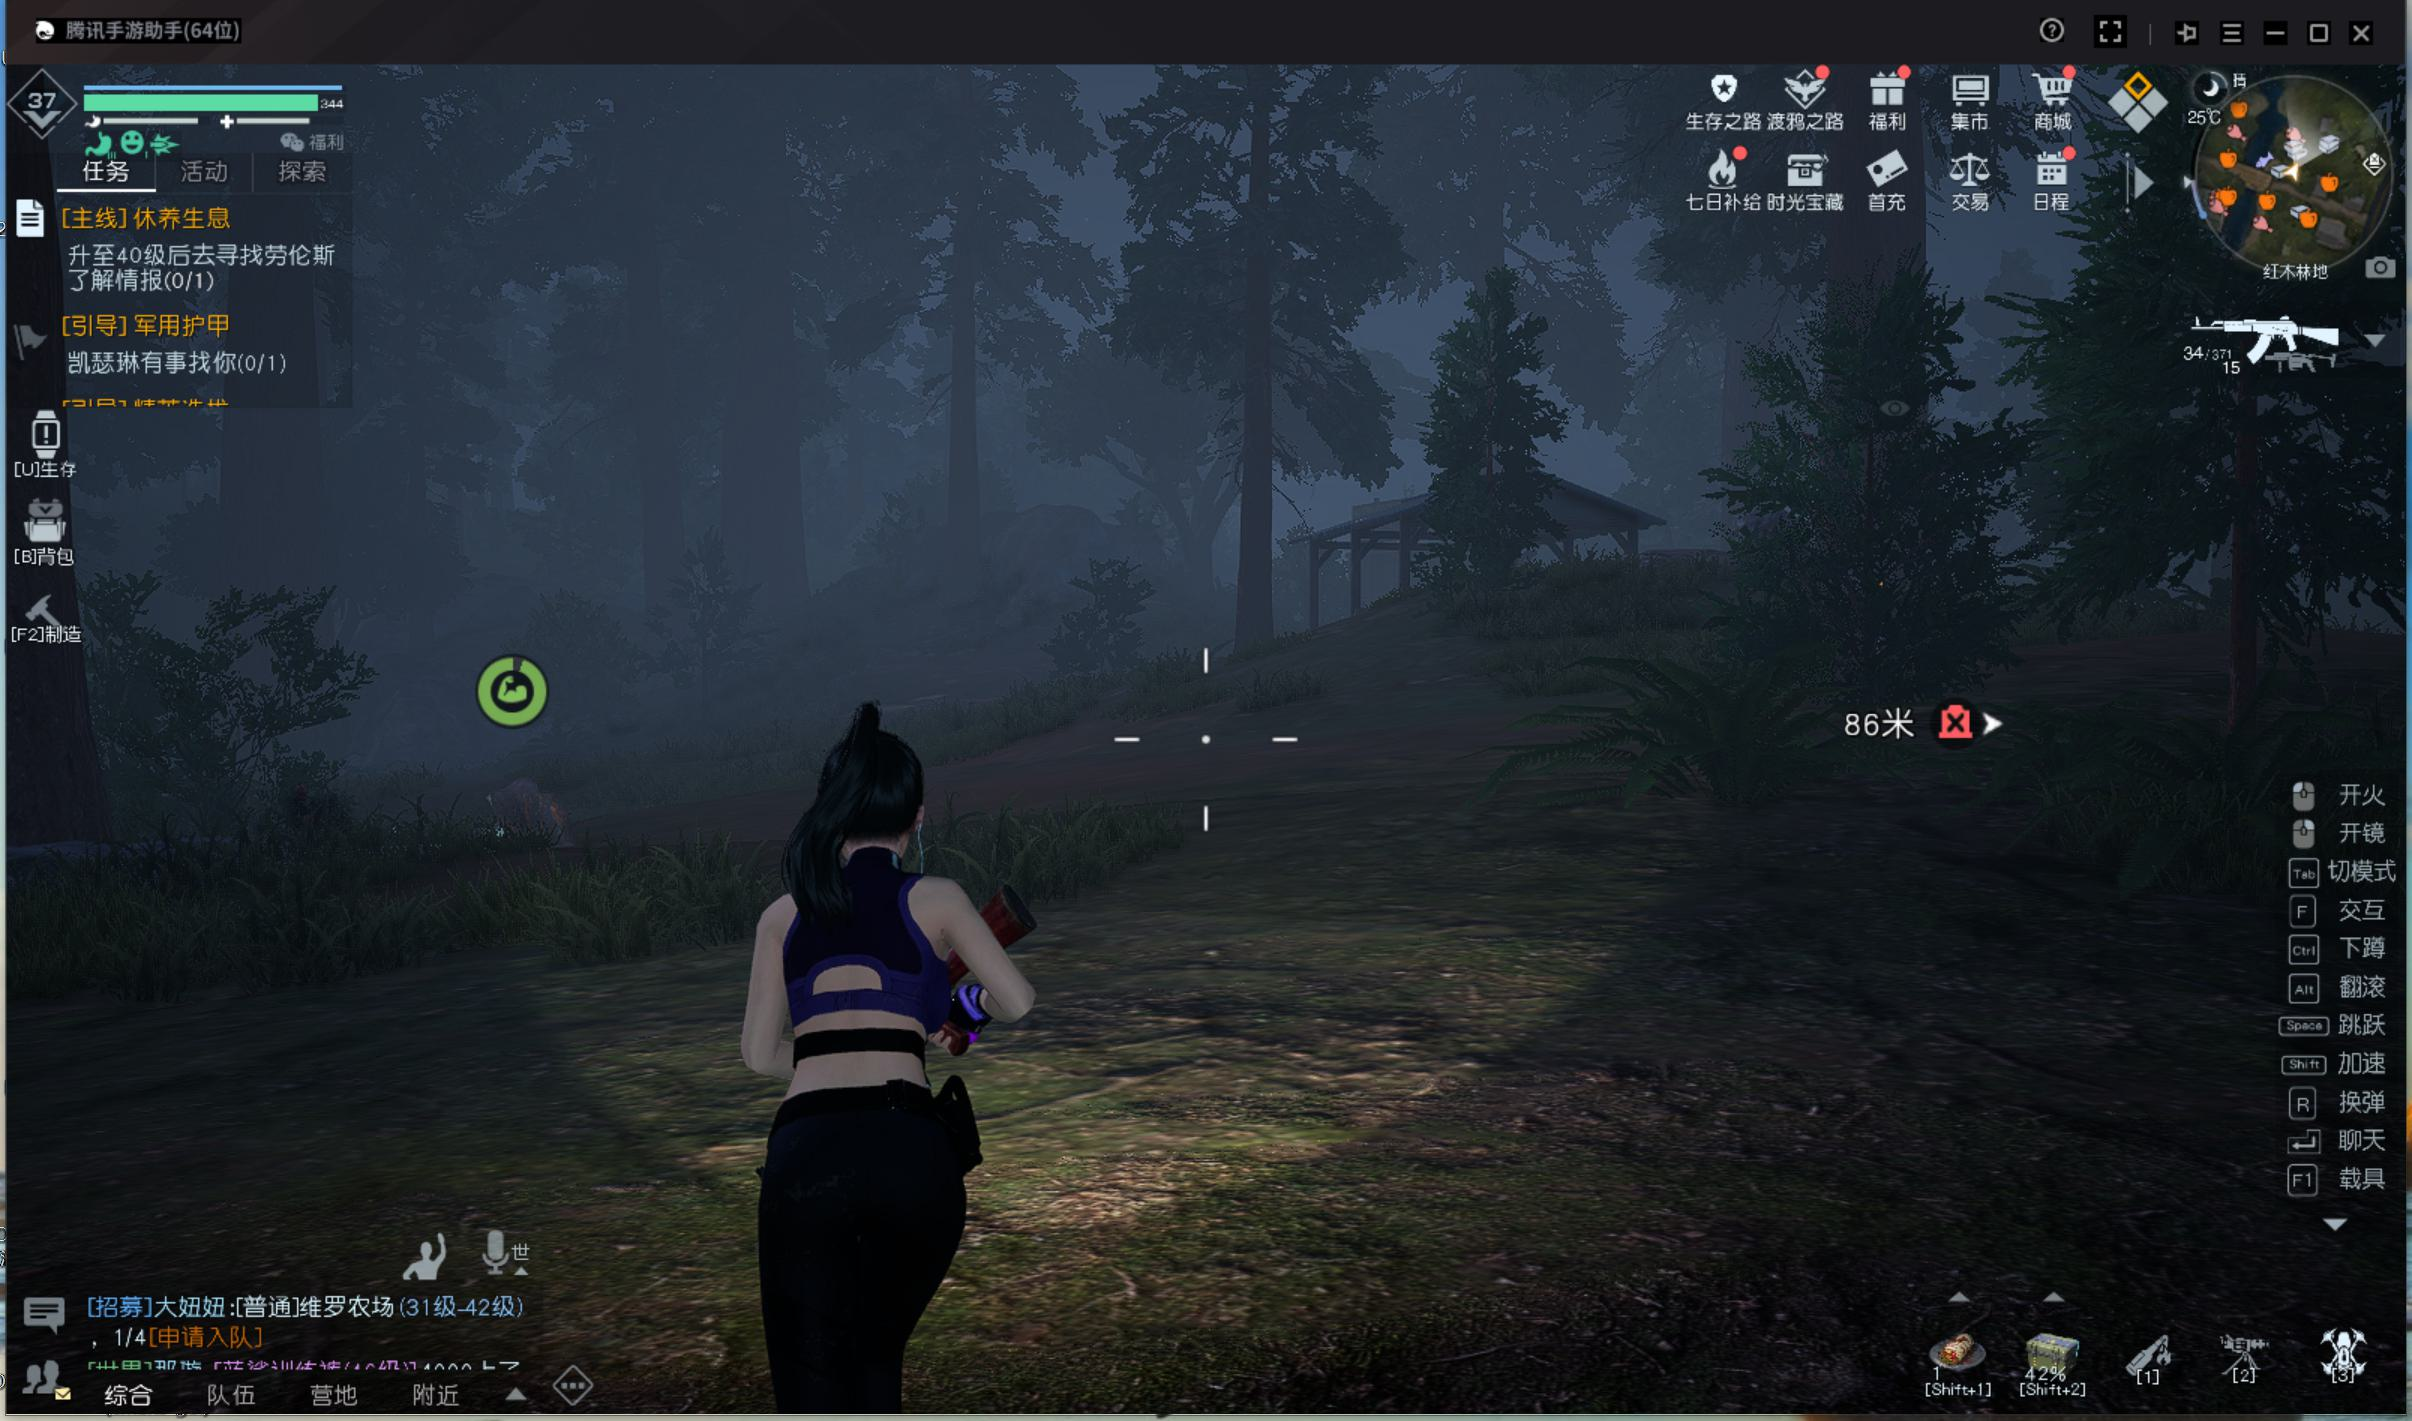tree: (633, 352, 705, 692), (1235, 259, 1285, 692), (940, 318, 984, 699)
